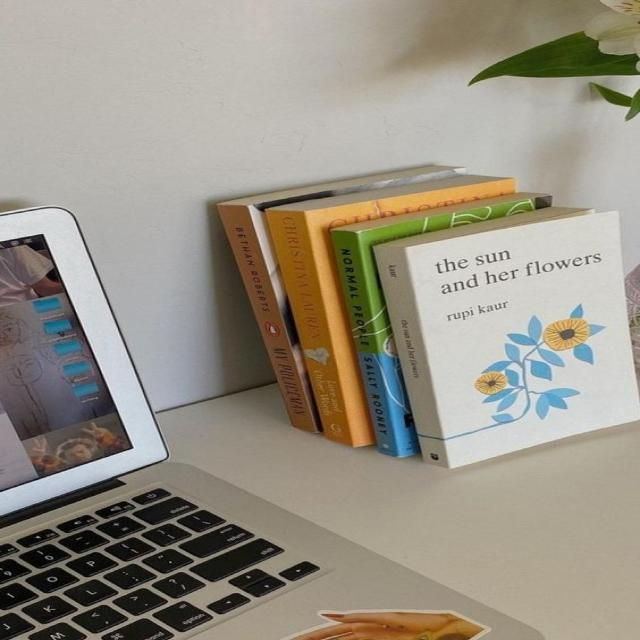book: (217, 204, 318, 431), (268, 209, 357, 446), (373, 247, 451, 464), (330, 230, 402, 456)
